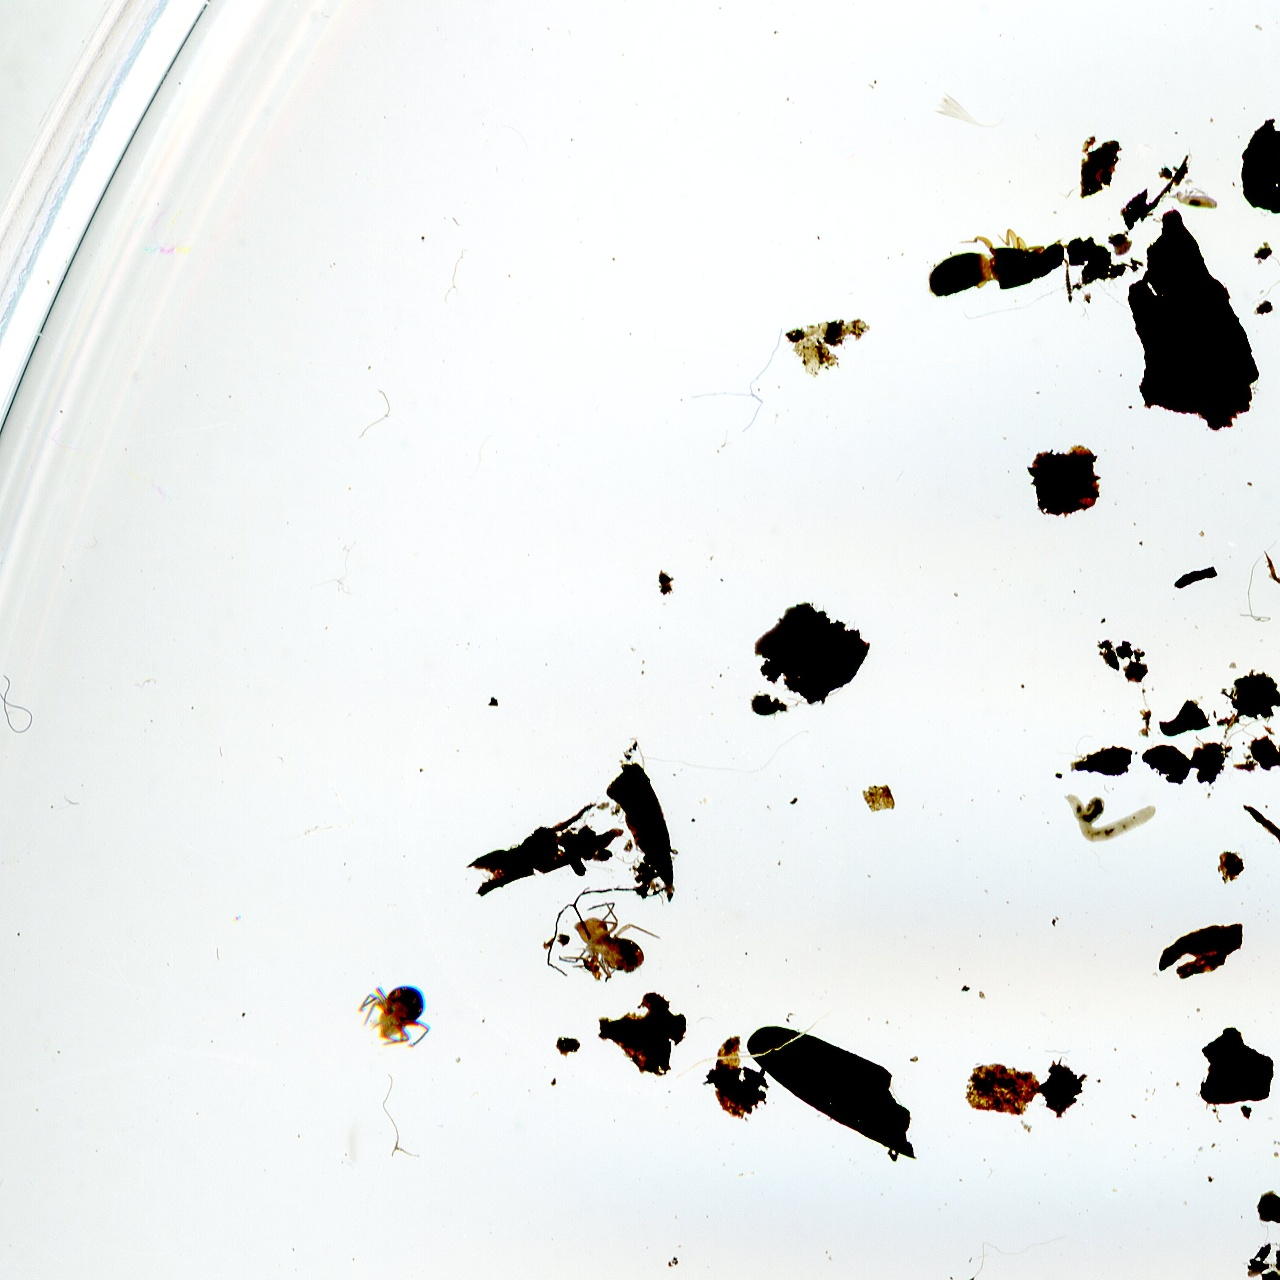arthropod: (920, 217, 1078, 327), (571, 900, 665, 985), (355, 980, 437, 1056), (1164, 183, 1219, 211)
